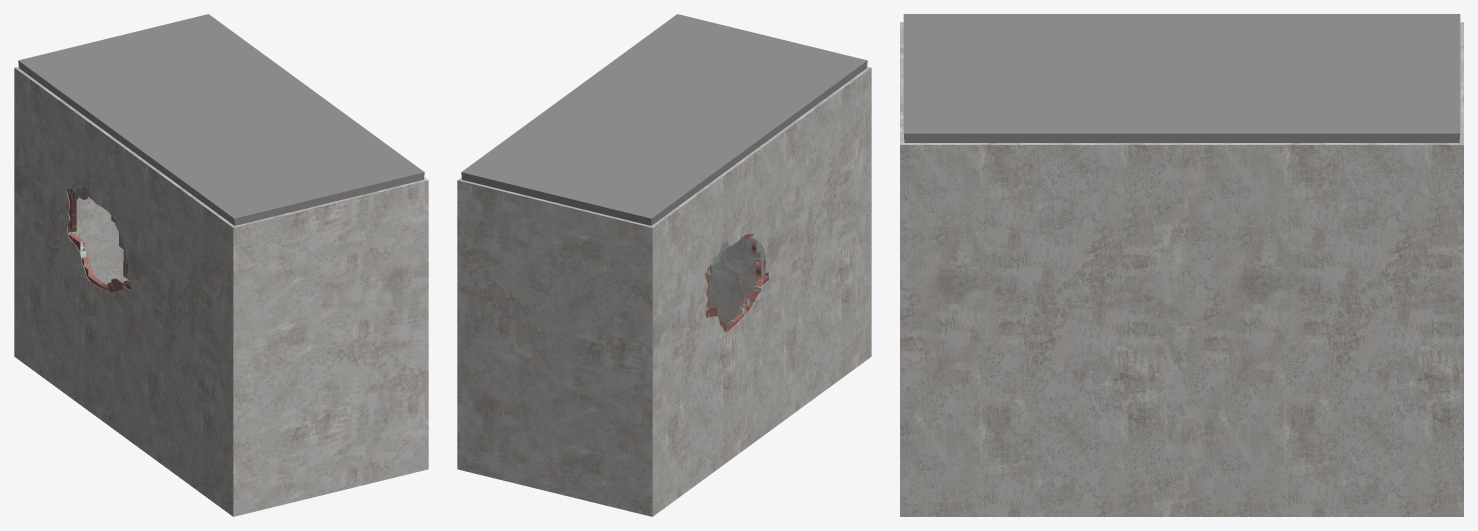
The model's file is MenuRoom.FBX.
3 renders of one model, left to right at view 1: azimuth 30°, elevation 25°; view 2: azimuth 150°, elevation 25°; view 3: azimuth 270°, elevation 25°, orthographic. The views are drawn at different scales.
Visible parts, largest first — view 1: Walls, Ceiling, Bricks; view 2: Walls, Ceiling, Bricks; view 3: Walls, Ceiling.
Boxes of the visible parts, x1=… form: Walls: x1=14, y1=66, x2=428, y2=516; Ceiling: x1=18, y1=14, x2=424, y2=225; Bricks: x1=67, y1=186, x2=130, y2=292; Walls: x1=457, y1=66, x2=871, y2=516; Ceiling: x1=461, y1=14, x2=867, y2=225; Bricks: x1=704, y1=233, x2=768, y2=331; Walls: x1=900, y1=22, x2=1463, y2=516; Ceiling: x1=903, y1=14, x2=1460, y2=142.
Bounding box in the file's own units: 212 × 309 × 412.
Materials: 4 (2 with a texture image).
